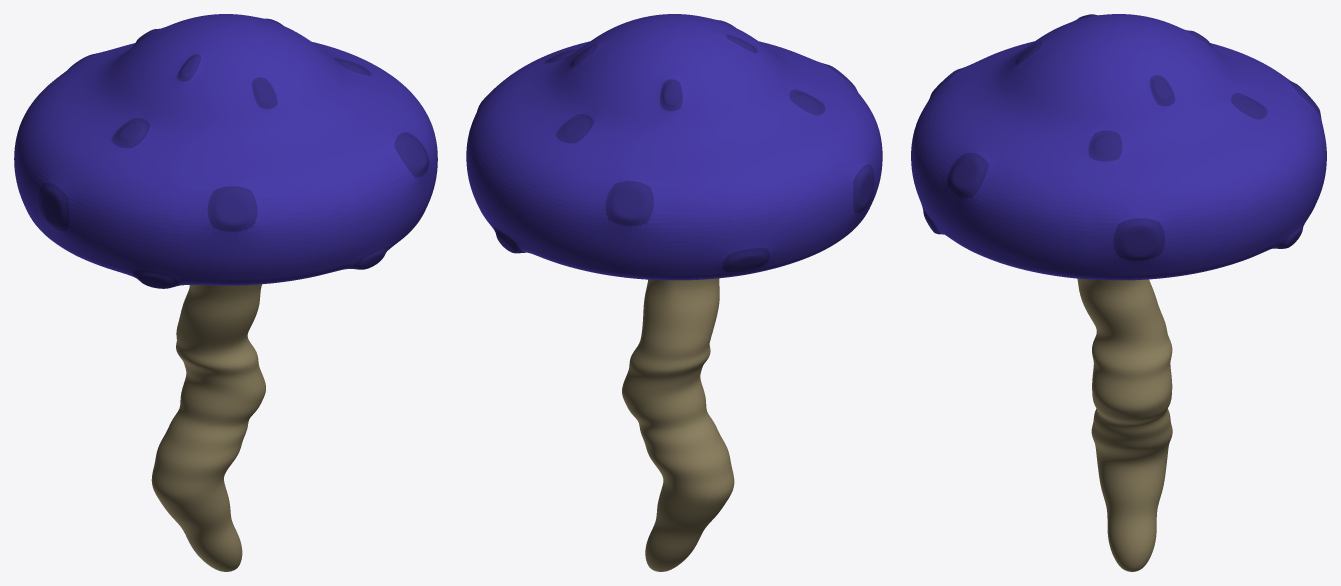
The model's file is BLUE_MUSHROOM.fbx.
The picture shows the model from 3 angles, left to right: view 1: azimuth 30°, elevation 25°; view 2: azimuth 150°, elevation 25°; view 3: azimuth 270°, elevation 25°; orthographic projection.
Parts seen in each view (by area): view 1: Sphere; view 2: Sphere; view 3: Sphere.
Part boxes in pixels (x1=…): Sphere: x1=14, y1=14, x2=437, y2=571; Sphere: x1=466, y1=14, x2=882, y2=571; Sphere: x1=911, y1=14, x2=1326, y2=571.
Bounding box in the file's own units: 292 × 412 × 287.
